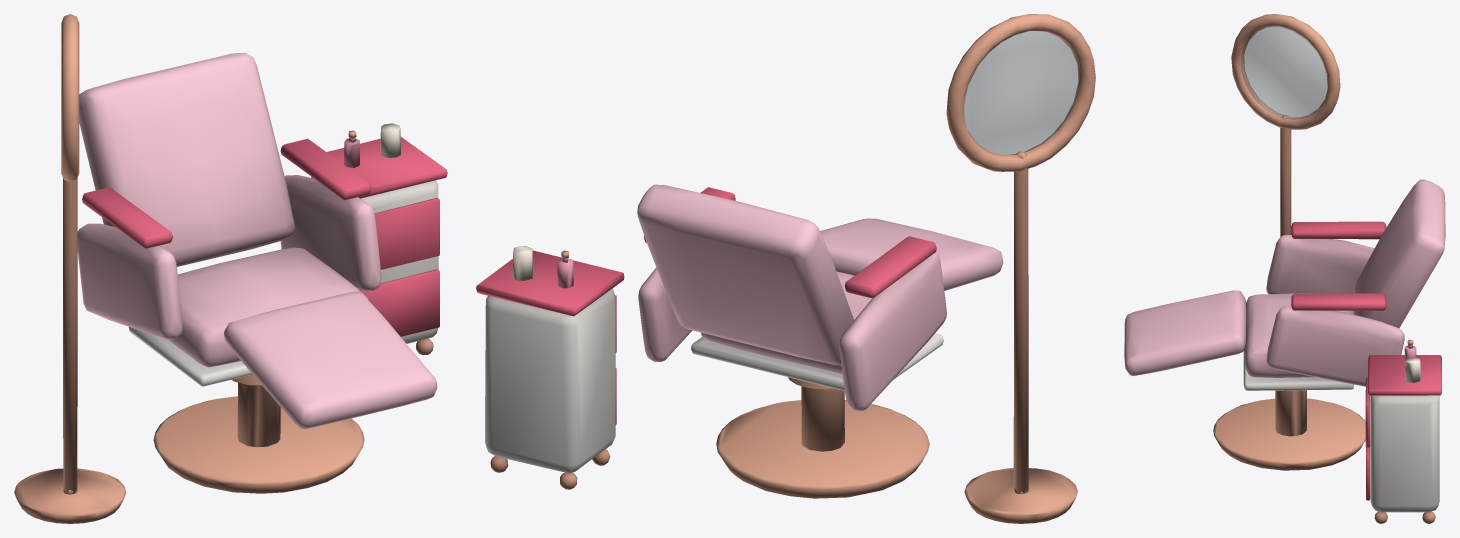
File: brow-bar-blush.glb
3 views of the same model, side by side, from view 1: azimuth 30°, elevation 25°; view 2: azimuth 150°, elevation 25°; view 3: azimuth 270°, elevation 25° (orthographic). The views are drawn at different scales.
Parts seen in each view (by area): view 1: brow-bar-blush; view 2: brow-bar-blush; view 3: brow-bar-blush.
Part boxes in pixels (x1=…): brow-bar-blush: x1=14, y1=14, x2=447, y2=523; brow-bar-blush: x1=476, y1=14, x2=1095, y2=523; brow-bar-blush: x1=1124, y1=14, x2=1445, y2=523.
Bounding box in the file's own units: 1.56 × 1.49 × 1.21.
